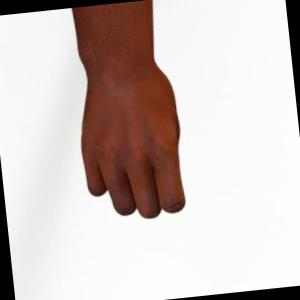rock: (72, 0, 184, 218)
